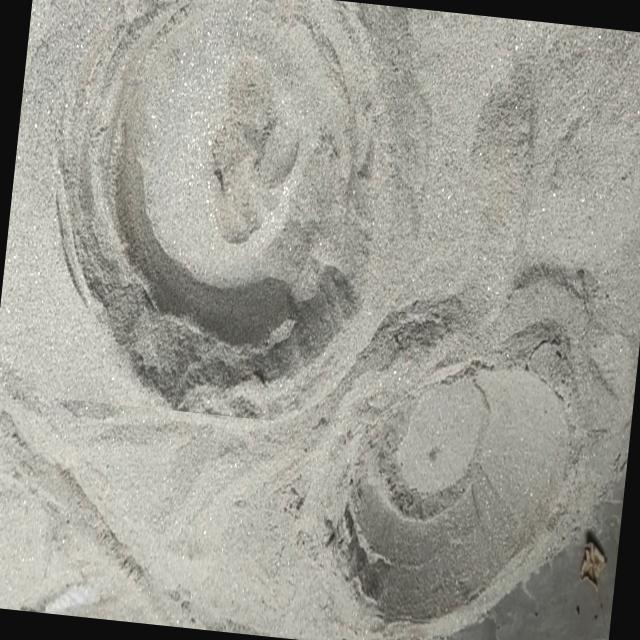C20: (57, 0, 415, 420), (334, 325, 581, 618)
